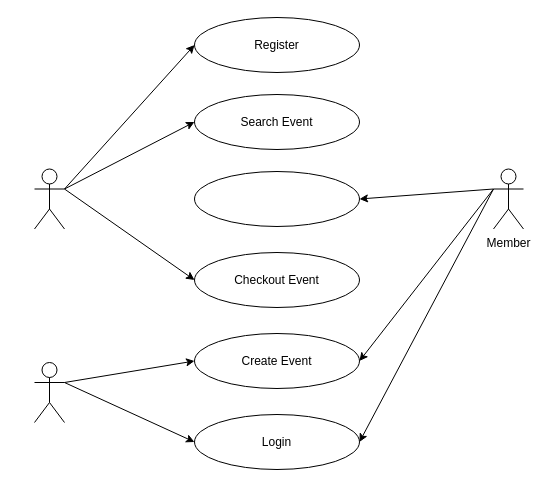
The diagram is 548 pixels wide and 487 high, and some of its shapes have lost their labels. Each missing label, with the centre of its shape:
"Check Report" goes at pixel 277 198.
"Guest" goes at pixel 49 198.
"Superadmin" goes at pixel 49 392.
